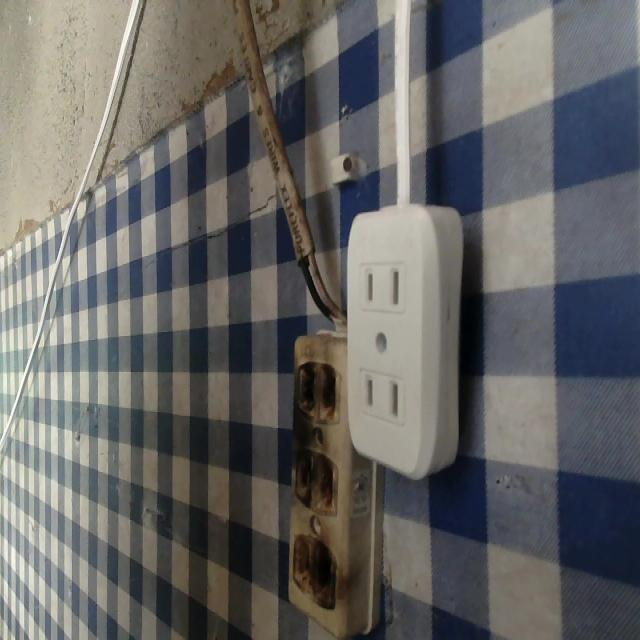-: (290, 526, 342, 610), (295, 352, 342, 421), (294, 453, 343, 511)
